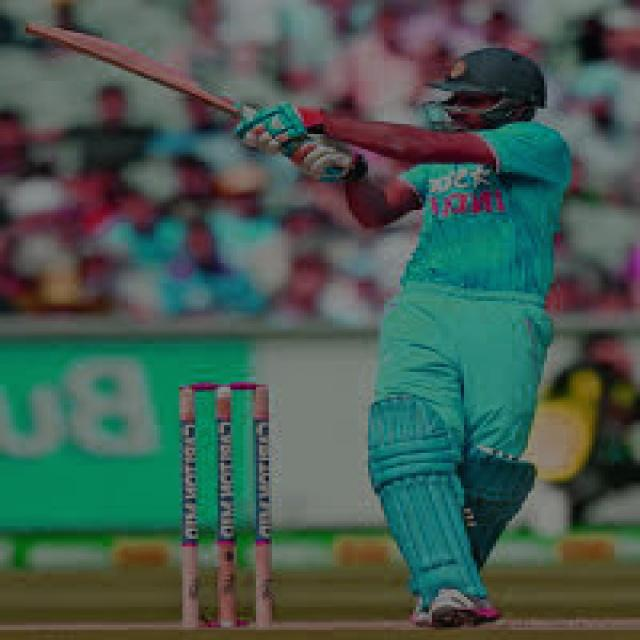toe: (18, 17, 48, 38)
